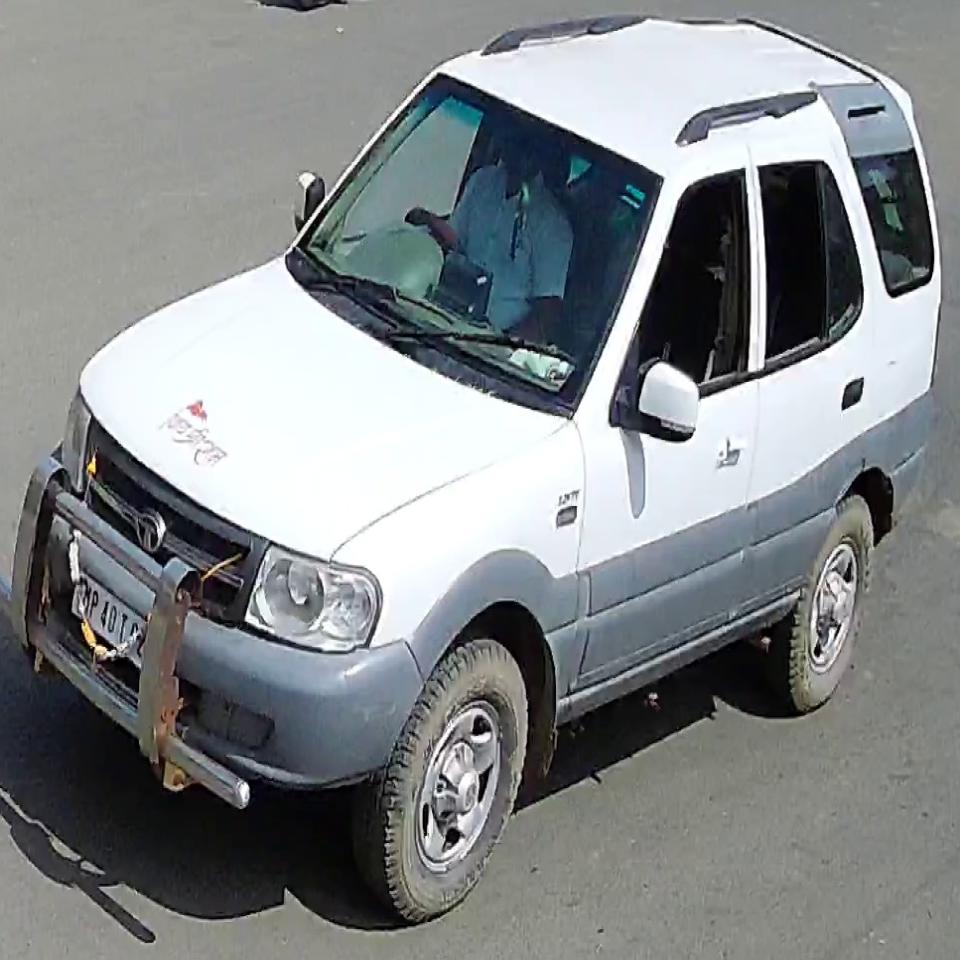head_light: (241, 543, 377, 661)
